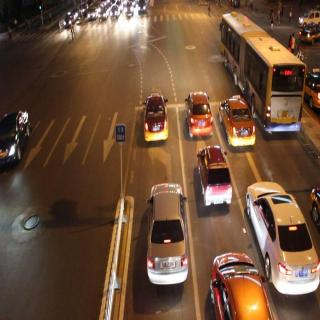BigCar: (217, 6, 308, 145)
Car: (246, 180, 318, 293), (146, 180, 191, 286), (209, 255, 269, 320), (194, 146, 232, 207), (219, 99, 256, 149), (0, 110, 30, 167), (184, 92, 214, 138), (142, 89, 168, 142), (297, 27, 320, 42), (299, 10, 319, 27), (86, 7, 98, 20), (124, 4, 134, 18), (139, 0, 147, 17), (110, 5, 119, 20), (64, 12, 72, 27), (98, 7, 107, 20)
